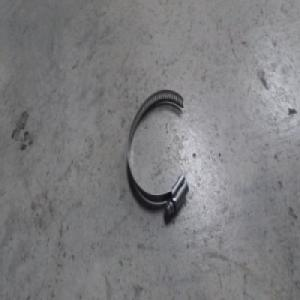AdjustableClamp: (127, 88, 192, 215)
